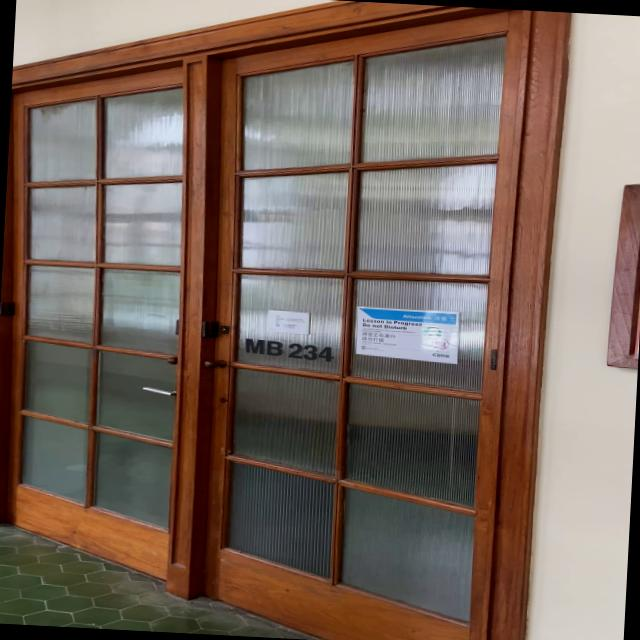room234Window: (238, 335, 339, 365)
